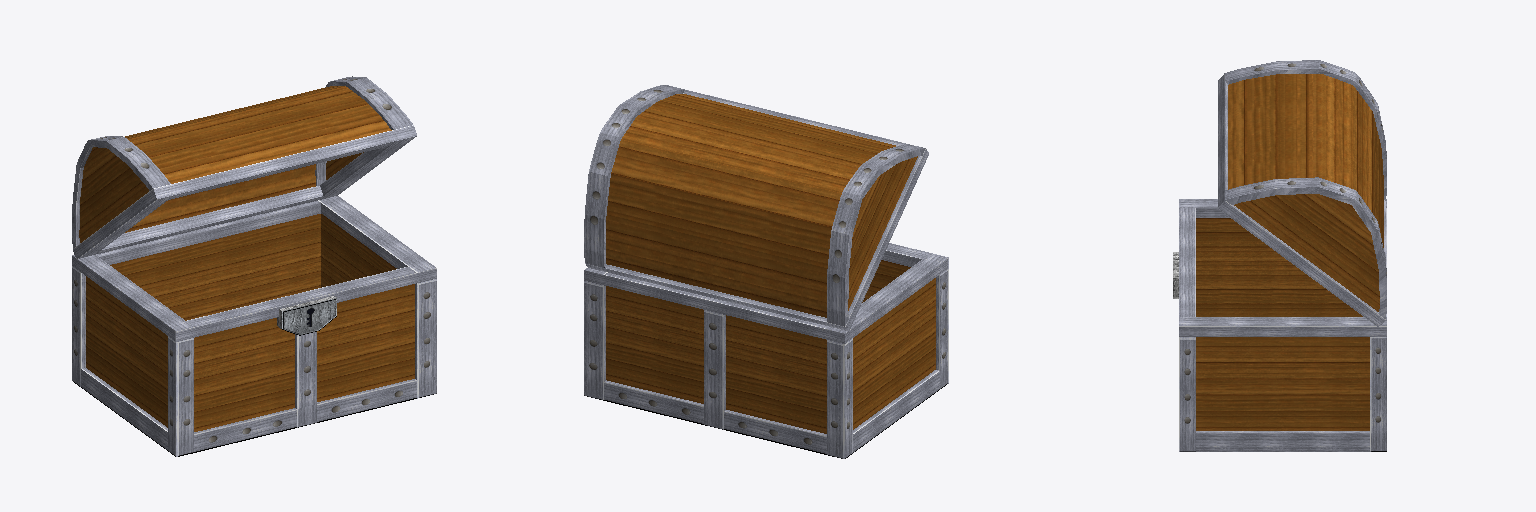
3 views of the same model, side by side, from view 1: azimuth 30°, elevation 25°; view 2: azimuth 150°, elevation 25°; view 3: azimuth 270°, elevation 25° (orthographic).
Parts seen in each view (by area): view 1: MagicTreasureChestBlue, MagicTreasureChestCoverBlue; view 2: MagicTreasureChestCoverBlue, MagicTreasureChestBlue; view 3: MagicTreasureChestBlue, MagicTreasureChestCoverBlue.
Part boxes in pixels (x1,y1,x2,y2): MagicTreasureChestBlue: (72,196,436,456); MagicTreasureChestCoverBlue: (72,76,416,258); MagicTreasureChestCoverBlue: (584,85,928,331); MagicTreasureChestBlue: (584,243,948,458); MagicTreasureChestBlue: (1173,199,1386,451); MagicTreasureChestCoverBlue: (1218,60,1386,326).
Size of the model in its own units: 1.44 by 1.4 by 1.02.
Materials: 2 (1 with a texture image).